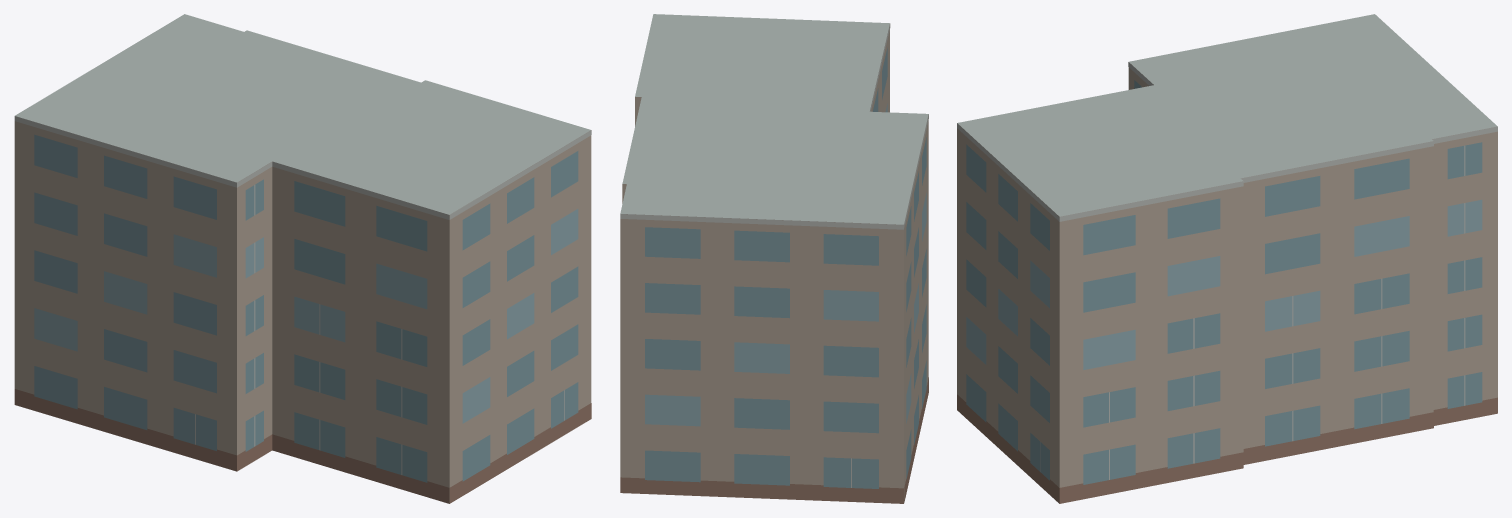
File: survey-upis-32698370.glb
The picture shows the model from 3 angles, left to right: view 1: azimuth 30°, elevation 25°; view 2: azimuth 150°, elevation 25°; view 3: azimuth 270°, elevation 25°; orthographic projection. The views are drawn at different scales.
Visible parts, largest first — view 1: survey-upis-32698370.tmp; view 2: survey-upis-32698370.tmp; view 3: survey-upis-32698370.tmp.
Part boxes in pixels (x1,y1,x2,y2): survey-upis-32698370.tmp: [14, 14, 591, 503]; survey-upis-32698370.tmp: [620, 14, 928, 503]; survey-upis-32698370.tmp: [957, 14, 1497, 503].
Bounding box in the file's own units: 20.61 × 13.6 × 23.22.
